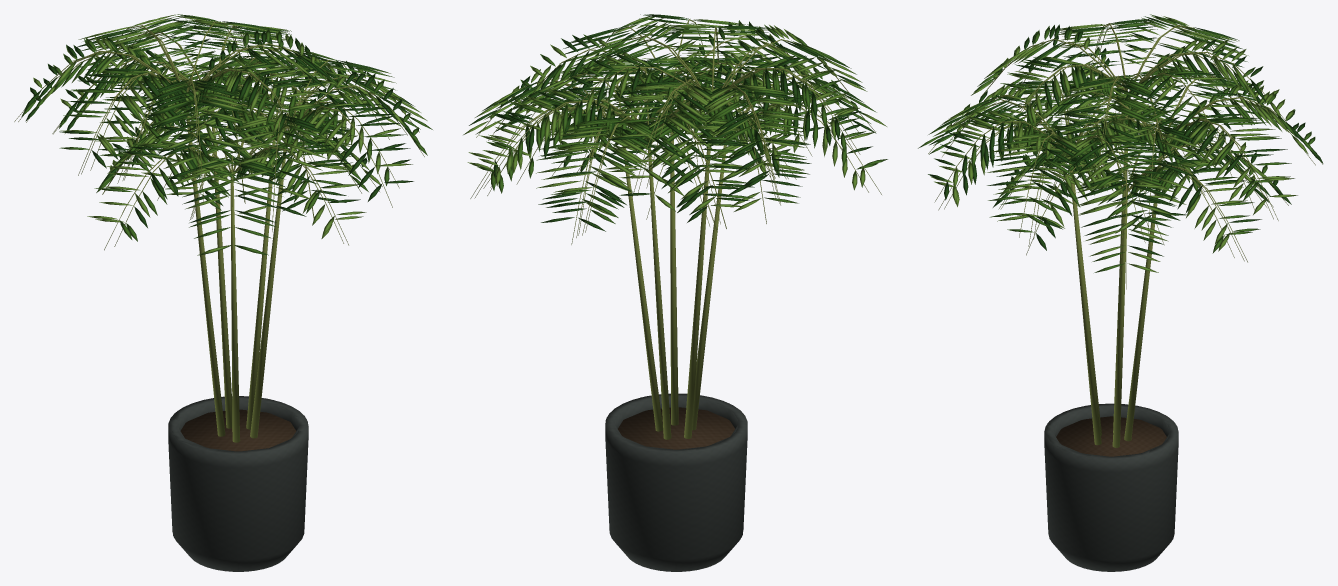
The model's file is MV_Palm_Pot_Round_Medium.fbx.
3 renders of one model, left to right at view 1: azimuth 30°, elevation 25°; view 2: azimuth 150°, elevation 25°; view 3: azimuth 270°, elevation 25°, orthographic. The views are drawn at different scales.
Visible parts, largest first — view 1: LOD0_Mesh, LOD1_Mesh, LOD2_Mesh; view 2: LOD0_Mesh, LOD1_Mesh, LOD2_Mesh; view 3: LOD0_Mesh, LOD1_Mesh, LOD2_Mesh.
Boxes of the visible parts, left/top/right/bottom form: LOD0_Mesh: left=25, top=14, right=432, bottom=571; LOD1_Mesh: left=18, top=14, right=420, bottom=571; LOD2_Mesh: left=14, top=23, right=401, bottom=571; LOD0_Mesh: left=463, top=14, right=878, bottom=571; LOD1_Mesh: left=467, top=24, right=887, bottom=571; LOD2_Mesh: left=468, top=30, right=860, bottom=571; LOD0_Mesh: left=928, top=16, right=1323, bottom=571; LOD1_Mesh: left=918, top=14, right=1322, bottom=570; LOD2_Mesh: left=999, top=16, right=1315, bottom=569.
Bounding box in the file's own units: 1.68 × 2.2 × 1.69.
